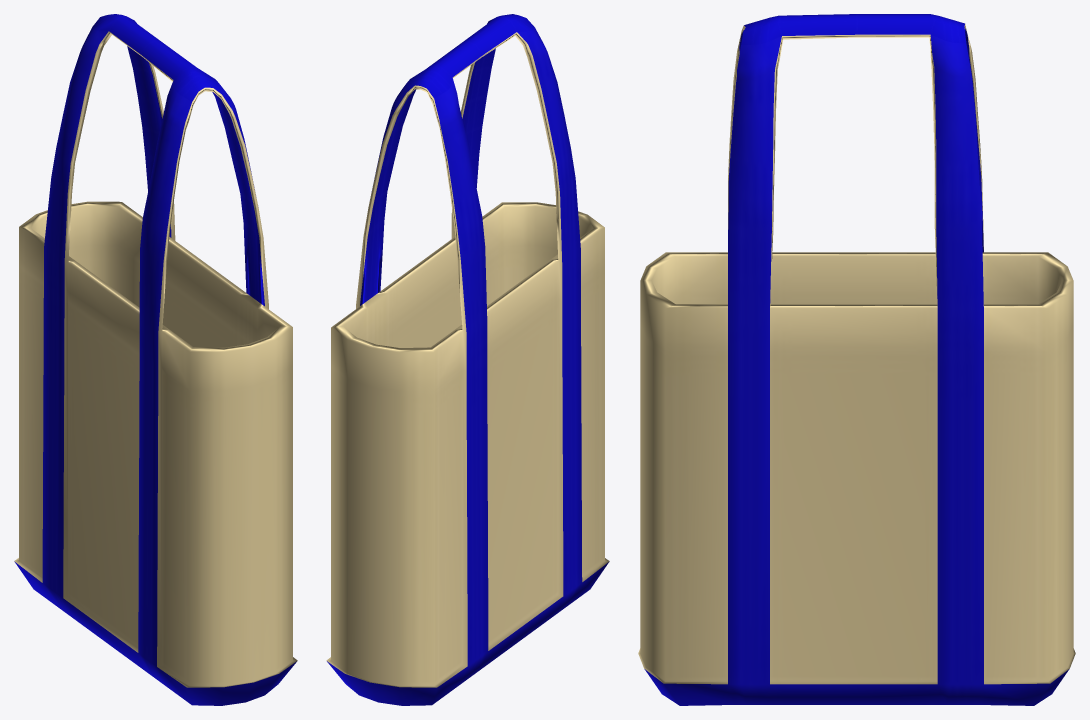
Rendered from totobag-blue.fbx.
3 renders of one model, left to right at view 1: azimuth 30°, elevation 25°; view 2: azimuth 150°, elevation 25°; view 3: azimuth 270°, elevation 25°, orthographic. The views are drawn at different scales.
Visible parts, largest first — view 1: totobag_blue; view 2: totobag_blue; view 3: totobag_blue.
Boxes of the visible parts, x1,y1,x2,y2 form: totobag_blue: (14, 14, 297, 705); totobag_blue: (326, 14, 609, 705); totobag_blue: (638, 14, 1075, 705).
Bounding box in the file's own units: 2.21 × 11.25 × 6.61.
1 material, 1 textured.
